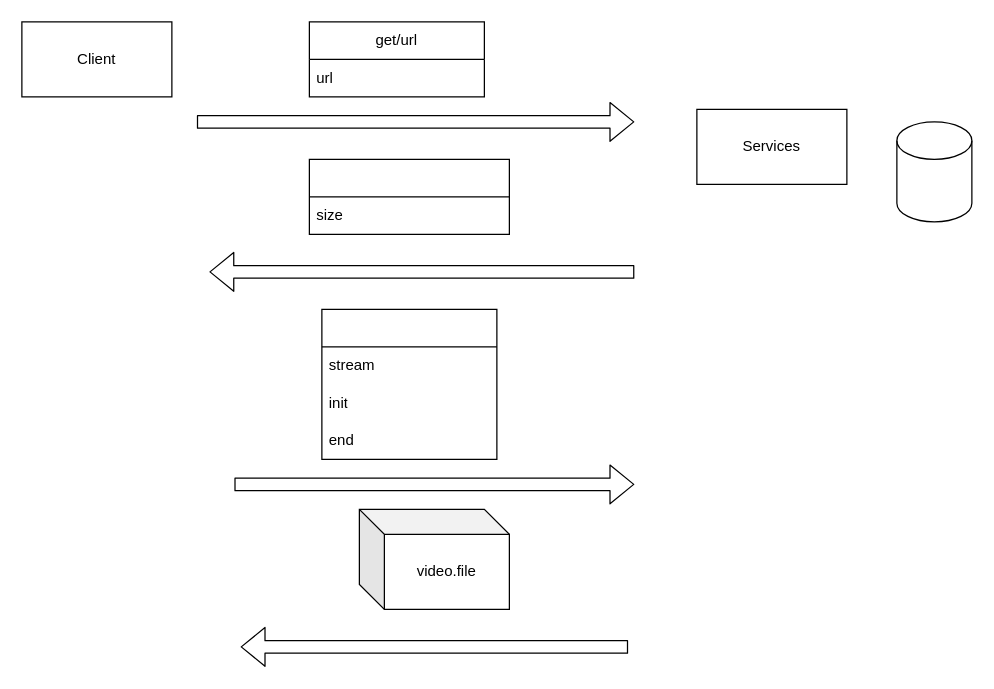
Image size: 994x689. Some labels were removed from this diagram. Each missing label, with the box of its shape:
get/dowloadStream: (321, 308, 497, 459)
json/streams(avaliables): (308, 158, 509, 234)
